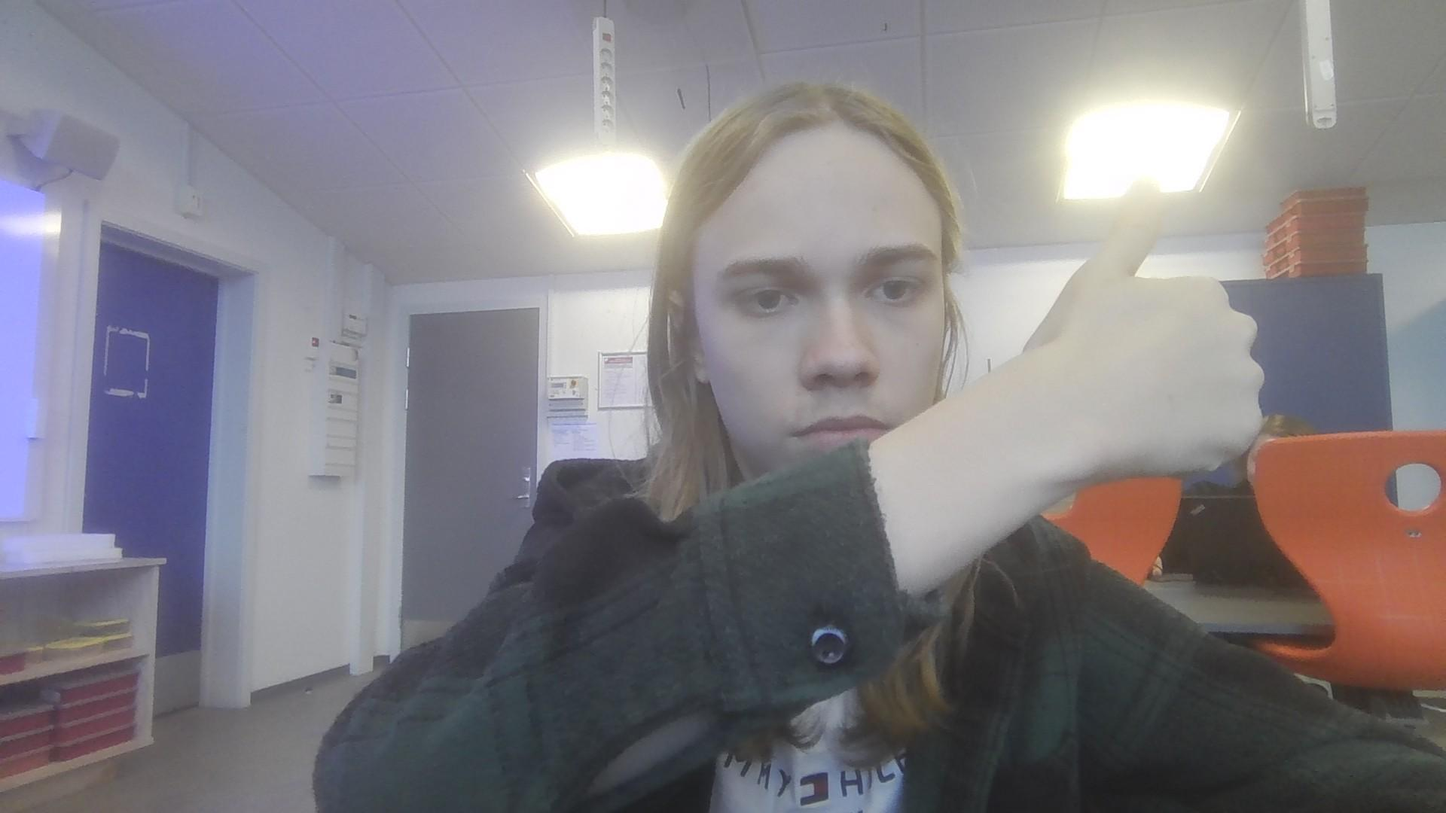thumbs up: (1004, 159, 1299, 522)
